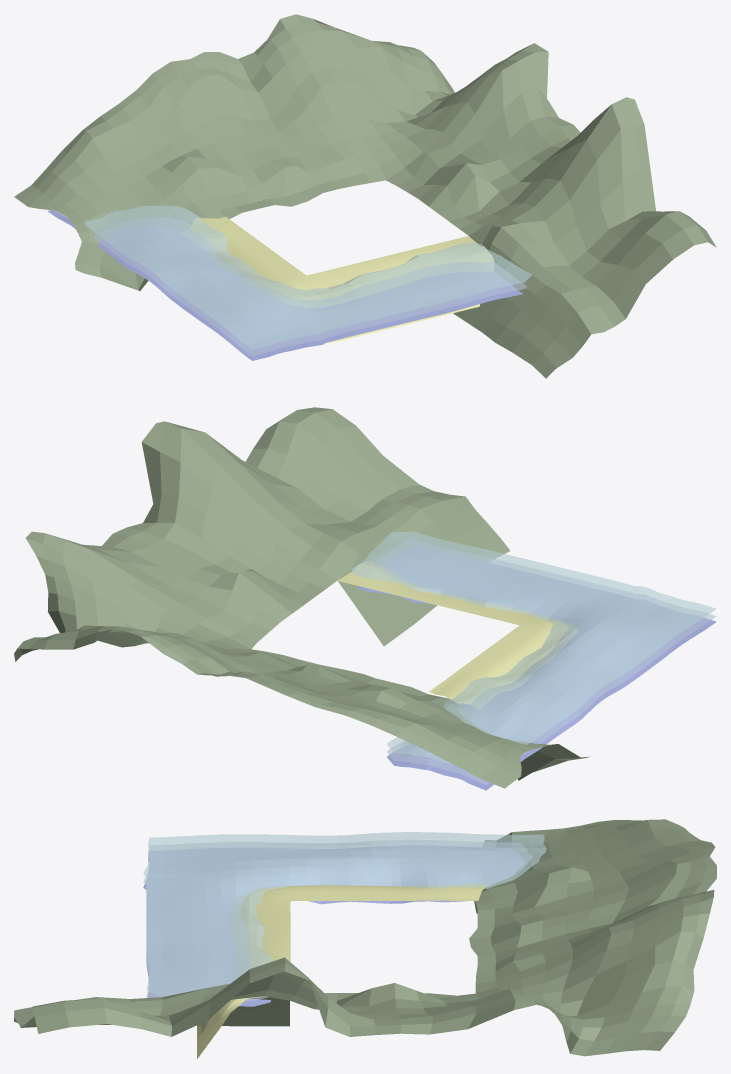
Rendered from Environment.fbx.
The picture shows the model from 3 angles, top to bottom: view 1: azimuth 30°, elevation 25°; view 2: azimuth 150°, elevation 25°; view 3: azimuth 270°, elevation 25°; orthographic projection. The views are drawn at different scales.
Parts seen in each view (by area): view 1: Mountain, Water_02, Water_01, Water_03, Beach; view 2: Mountain, Water_02, Water_01, Water_03, Beach; view 3: Mountain, Water_02, Water_01, Water_03, Beach.
Boxes of the visible parts, <box> form: Mountain: <box>14,14,716,378</box>; Water_02: <box>83,205,531,349</box>; Water_01: <box>53,210,526,355</box>; Water_03: <box>47,210,523,360</box>; Beach: <box>182,216,493,343</box>; Mountain: <box>14,407,590,788</box>; Water_02: <box>351,531,716,763</box>; Water_01: <box>375,539,716,784</box>; Water_03: <box>357,545,716,790</box>; Beach: <box>337,561,577,709</box>; Mountain: <box>14,819,716,1056</box>; Water_02: <box>143,832,546,996</box>; Water_01: <box>143,840,531,1000</box>; Water_03: <box>143,846,524,1006</box>; Beach: <box>197,882,487,1058</box>.
Bounding box in the file's own units: 4736 × 1475 × 5098.
